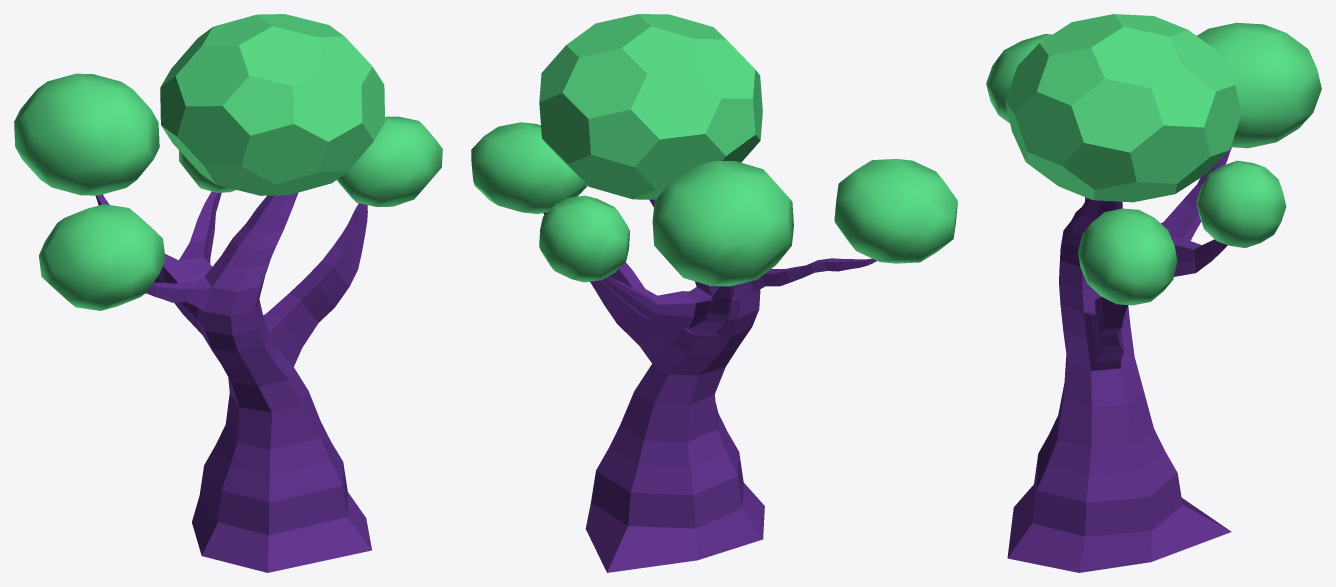
Rendered from tree.fbx.
3 views of the same model, side by side, from view 1: azimuth 30°, elevation 25°; view 2: azimuth 150°, elevation 25°; view 3: azimuth 270°, elevation 25° (orthographic). The views are drawn at different scales.
Visible parts, largest first — view 1: trunk, leaves_1, leaves_4, leaves_3, leaves_2, leaves_5; view 2: trunk, leaves_1, leaves_4, leaves_3, leaves_2, leaves_5; view 3: trunk, leaves_1, leaves_4, leaves_2, leaves_5, leaves_3.
Boxes of the visible parts, x1,y1,x2,y2 form: trunk: (95,191,371,572); leaves_1: (160,14,384,195); leaves_4: (14,73,159,195); leaves_3: (39,204,165,310); leaves_2: (337,116,442,207); leaves_5: (179,150,235,192); trunk: (543,199,876,572); leaves_1: (539,14,762,199); leaves_4: (652,161,793,286); leaves_3: (834,159,957,263); leaves_2: (471,122,586,213); leaves_5: (539,195,629,282); trunk: (1007,147,1231,572); leaves_1: (1005,14,1241,202); leaves_4: (1197,22,1321,148); leaves_2: (1078,208,1177,305); leaves_5: (1196,160,1286,247); leaves_3: (986,34,1051,123).
Bounding box in the file's own units: 50.31 × 55.36 × 33.04.
Materials: 2 (2 with a texture image).
